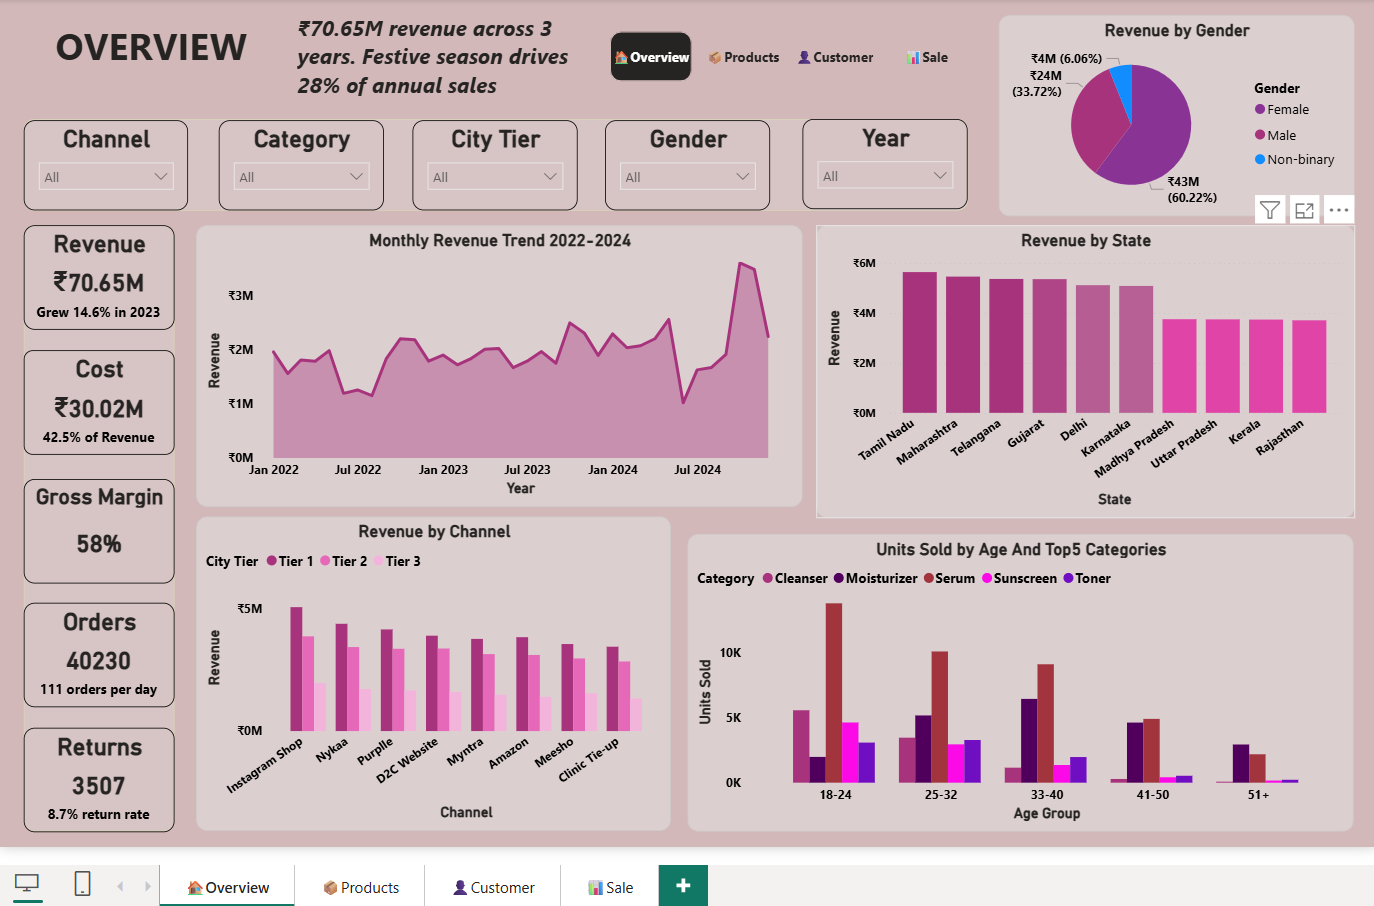

Layout of this report page (visuals, bound fields, positions):
{"tool":"powerbi","page":{"name":"🏠Overview","canvas":[1380,850],"ordinal":0},"visuals":[{"type":"areaChart","title":"Monthly Revenue Trend 2022-2024","fields":{"Category":["Skincare.order_date.Variation.Date Hierarchy.Year","Skincare.order_date.Variation.Date Hierarchy.Month"],"Y":["Measure_Analysis.Revenue"]},"box":[196.8,226.4,608,282.6],"z":0},{"type":"shape","box":[23.7,226.4,150.9,608],"z":1000},{"type":"clusteredColumnChart","title":"Units Sold by Age And Top5 Categories","fields":{"Category":["Skincare.age_bracket"],"Series":["Skincare.category"],"Y":["Sum(Skincare.units_sold)"]},"box":[690,536.7,668.3,298.3],"z":2000},{"type":"pieChart","title":"Revenue by Gender","fields":{"Category":["Skincare.gender"],"Y":["Measure_Analysis.Revenue"]},"box":[1002,16.9,356.5,201.3],"z":3000},{"type":"clusteredColumnChart","fields":{"Category":["Skincare.state"],"Y":["Measure_Analysis.Revenue"]},"box":[818.3,226.7,540,293.3],"z":4000},{"type":"lineClusteredColumnComboChart","title":"Revenue by Channel","fields":{"Category":["Skincare.channel"],"Series":["Skincare.city_tier"],"Y":["Measure_Analysis.Revenue"]},"box":[196.8,519.3,476.4,315.1],"z":5000},{"type":"card","title":"Returns","fields":{"Values":["Measure_Analysis.Returns"]},"box":[23.7,730.8,150.9,105],"z":6000},{"type":"card","title":"Orders","fields":{"Values":["Measure_Analysis.Orders"]},"box":[23.7,605.1,150.9,105],"z":7000},{"type":"card","title":"Gross Margin","fields":{"Values":["Measure_Analysis.Measure"]},"box":[23.7,480.8,150.9,105],"z":8000},{"type":"card","title":"Cost","fields":{"Values":["Measure_Analysis.Cost"]},"box":[23.7,352.1,150.9,105],"z":9000},{"type":"card","title":"Revenue","fields":{"Values":["Measure_Analysis.Revenue"]},"box":[23.7,226.4,150.9,105],"z":10000},{"type":"textbox","box":[23.7,16.3,255.9,79.9],"z":11000},{"type":"shape","box":[23.7,119.8,946.8,91.7],"z":12000},{"type":"slicer","title":"Channel","fields":{"Values":["Skincare.channel"]},"box":[23.7,122,165,90.2],"z":13000},{"type":"slicer","title":"Category","fields":{"Values":["Skincare.category"]},"box":[219,121.3,165.7,90.2],"z":14000},{"type":"slicer","title":"City Tier","fields":{"Values":["Skincare.city_tier"]},"box":[414.2,121.3,165.7,90.2],"z":15000},{"type":"slicer","title":"Gender","fields":{"Values":["Skincare.gender"]},"box":[606.6,121.3,165.7,90.2],"z":16000},{"type":"slicer","title":"Year","fields":{"Values":["Skincare.order_date.Variation.Date Hierarchy.Year"]},"box":[804.8,119.8,165.7,90.2],"z":17000},{"type":"pageNavigator","box":[611.8,32.6,358.5,50.1],"z":18000},{"type":"textbox","box":[293.4,8.8,313.4,96.5],"z":19000}]}

Visuals, with their boxes on the page's 1380x850 design canvas (x1, y1, x2, y2). These are canvas units, not pixel positions in the 1374x906 screenshot, which may show the page scaled, cropped or inside an application window:
"Monthly Revenue Trend 2022-2024" areaChart: x1=197, y1=226, x2=805, y2=509
shape: x1=24, y1=226, x2=175, y2=834
"Units Sold by Age And Top5 Categories" clusteredColumnChart: x1=690, y1=537, x2=1358, y2=835
"Revenue by Gender" pieChart: x1=1002, y1=17, x2=1358, y2=218
clusteredColumnChart - Skincare.state x Measure_Analysis.Revenue: x1=818, y1=227, x2=1358, y2=520
"Revenue by Channel" lineClusteredColumnComboChart: x1=197, y1=519, x2=673, y2=834
"Returns" card: x1=24, y1=731, x2=175, y2=836
"Orders" card: x1=24, y1=605, x2=175, y2=710
"Gross Margin" card: x1=24, y1=481, x2=175, y2=586
"Cost" card: x1=24, y1=352, x2=175, y2=457
"Revenue" card: x1=24, y1=226, x2=175, y2=331
textbox: x1=24, y1=16, x2=280, y2=96
shape: x1=24, y1=120, x2=970, y2=212
"Channel" slicer: x1=24, y1=122, x2=189, y2=212
"Category" slicer: x1=219, y1=121, x2=385, y2=212
"City Tier" slicer: x1=414, y1=121, x2=580, y2=212
"Gender" slicer: x1=607, y1=121, x2=772, y2=212
"Year" slicer: x1=805, y1=120, x2=970, y2=210
pageNavigator: x1=612, y1=33, x2=970, y2=83
textbox: x1=293, y1=9, x2=607, y2=105
